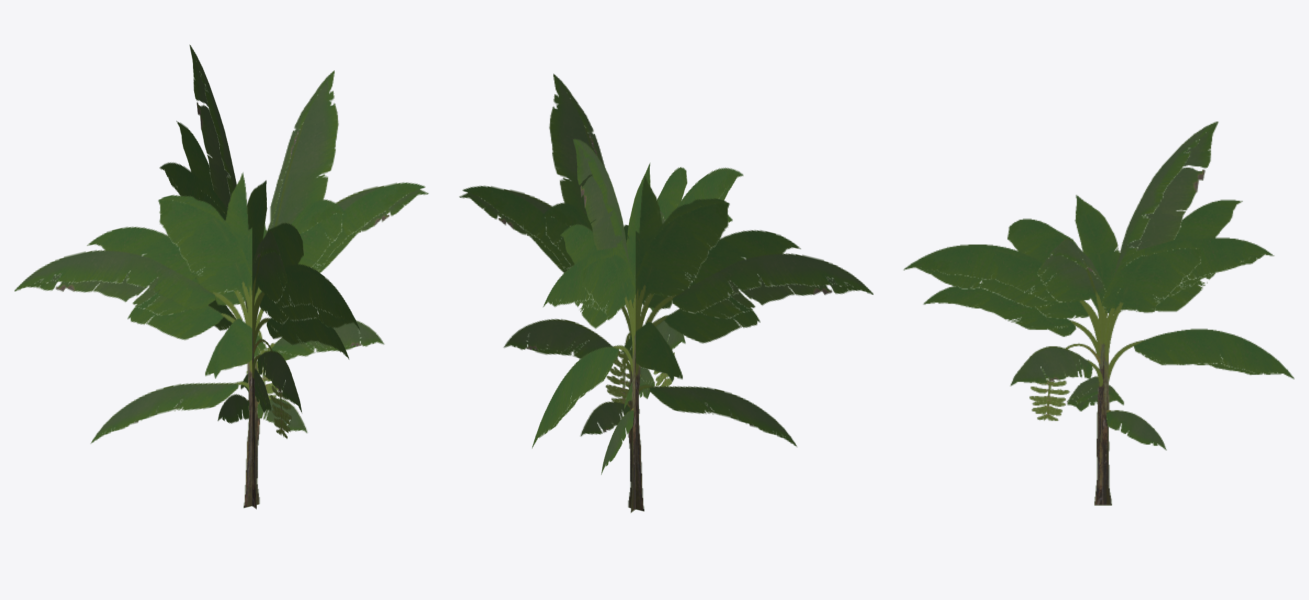
File: MusaAcuminata.glb
3 renders of one model, left to right at view 1: azimuth 30°, elevation 25°; view 2: azimuth 150°, elevation 25°; view 3: azimuth 270°, elevation 25°, orthographic. The views are drawn at different scales.
Visible parts, largest first — view 1: mesh__mat_billboard_8; view 2: mesh__mat_billboard_8; view 3: mesh__mat_billboard_8.
Boxes of the visible parts, left/top/right/bottom form: mesh__mat_billboard_8: left=14, top=45, right=428, bottom=509; mesh__mat_billboard_8: left=459, top=73, right=873, bottom=512; mesh__mat_billboard_8: left=903, top=121, right=1294, bottom=505.
Bounding box in the file's own units: 5.04 × 4.83 × 4.46.
1 material, 1 textured.
